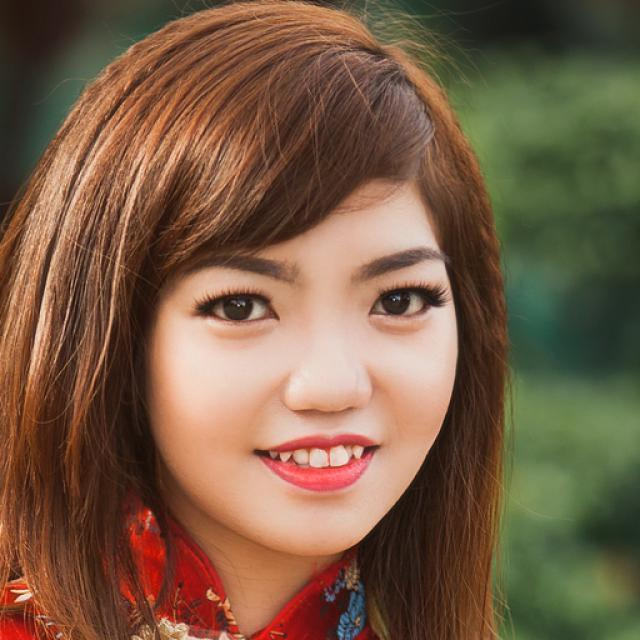0_rostro_limpio: (1, 0, 507, 558)
